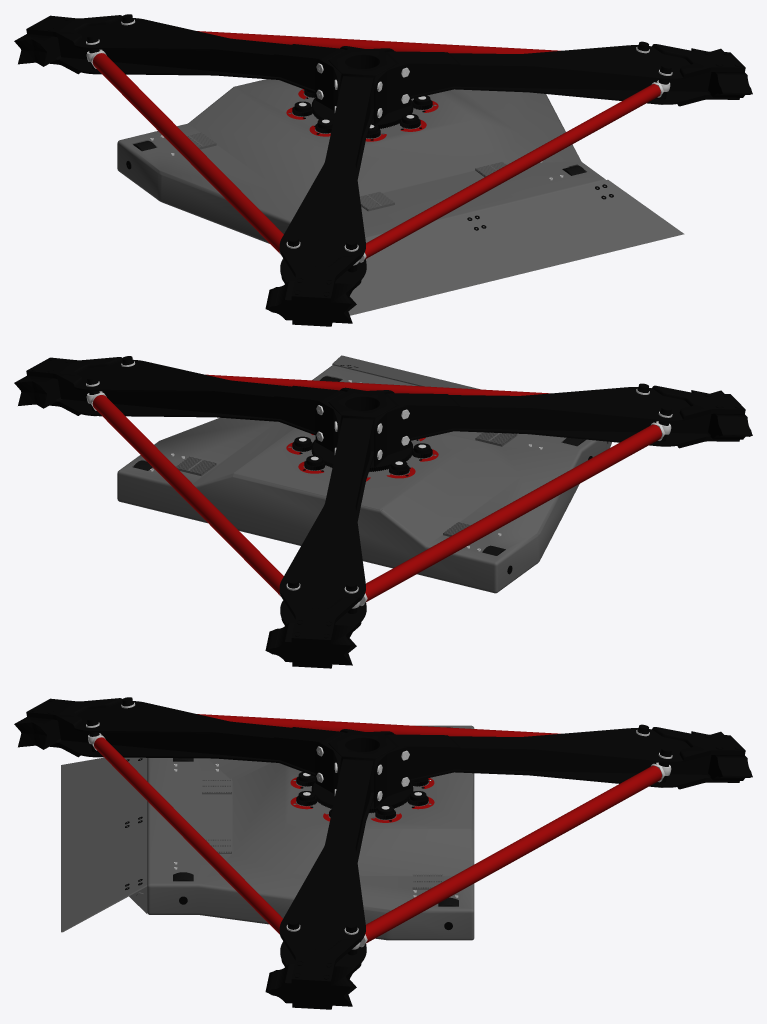
File: Son of Whyachiexport.fbx
3 renders of one model, top to bottom at view 1: azimuth 30°, elevation 25°; view 2: azimuth 150°, elevation 25°; view 3: azimuth 270°, elevation 25°, orthographic.
Parts seen in each view (by area): view 1: Cylinder034, Box001, Plane001, Cylinder021; view 2: Cylinder034, Box001, Plane001, Cylinder021; view 3: Cylinder034, Box001, Plane001, Cylinder021.
Part boxes in pixels (x1=…): Cylinder034: x1=14, y1=14, x2=752, y2=326; Box001: x1=117, y1=79, x2=605, y2=243; Plane001: x1=348, y1=179, x2=684, y2=315; Cylinder021: x1=311, y1=98, x2=413, y2=128; Cylinder034: x1=14, y1=356, x2=752, y2=668; Box001: x1=117, y1=365, x2=606, y2=593; Plane001: x1=332, y1=355, x2=480, y2=389; Cylinder021: x1=311, y1=439, x2=413, y2=471; Cylinder034: x1=14, y1=697, x2=752, y2=1009; Box001: x1=147, y1=725, x2=474, y2=940; Plane001: x1=61, y1=757, x2=147, y2=932; Cylinder021: x1=311, y1=781, x2=413, y2=813.
Bounding box in the file's own units: 200 × 34.38 × 215.
